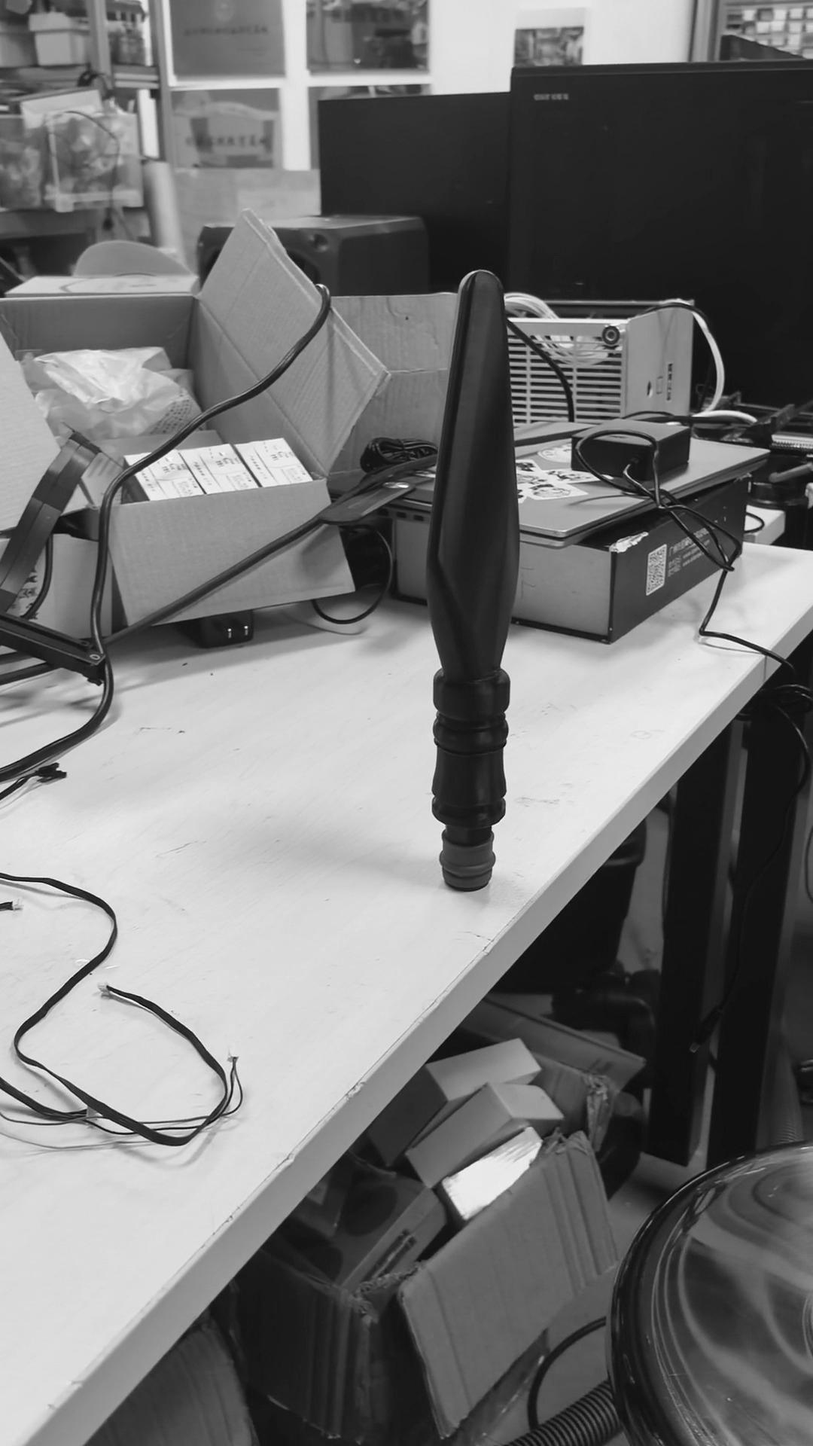base: (437, 828, 499, 890)
